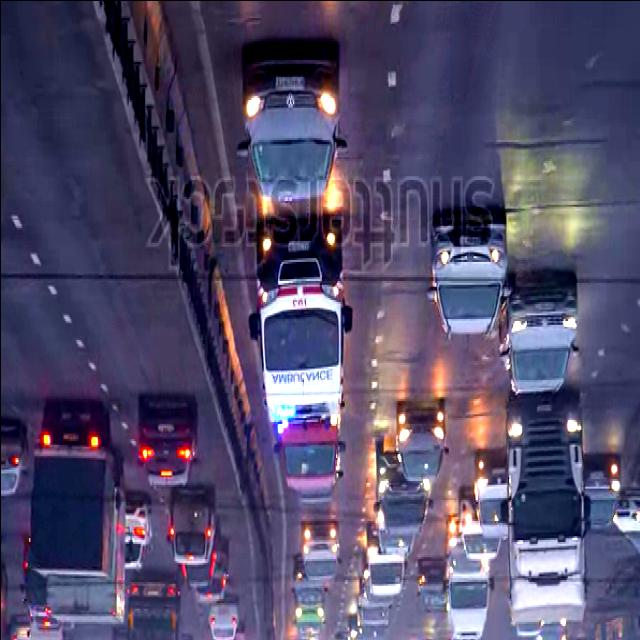ambulance: (245, 210, 355, 424)
